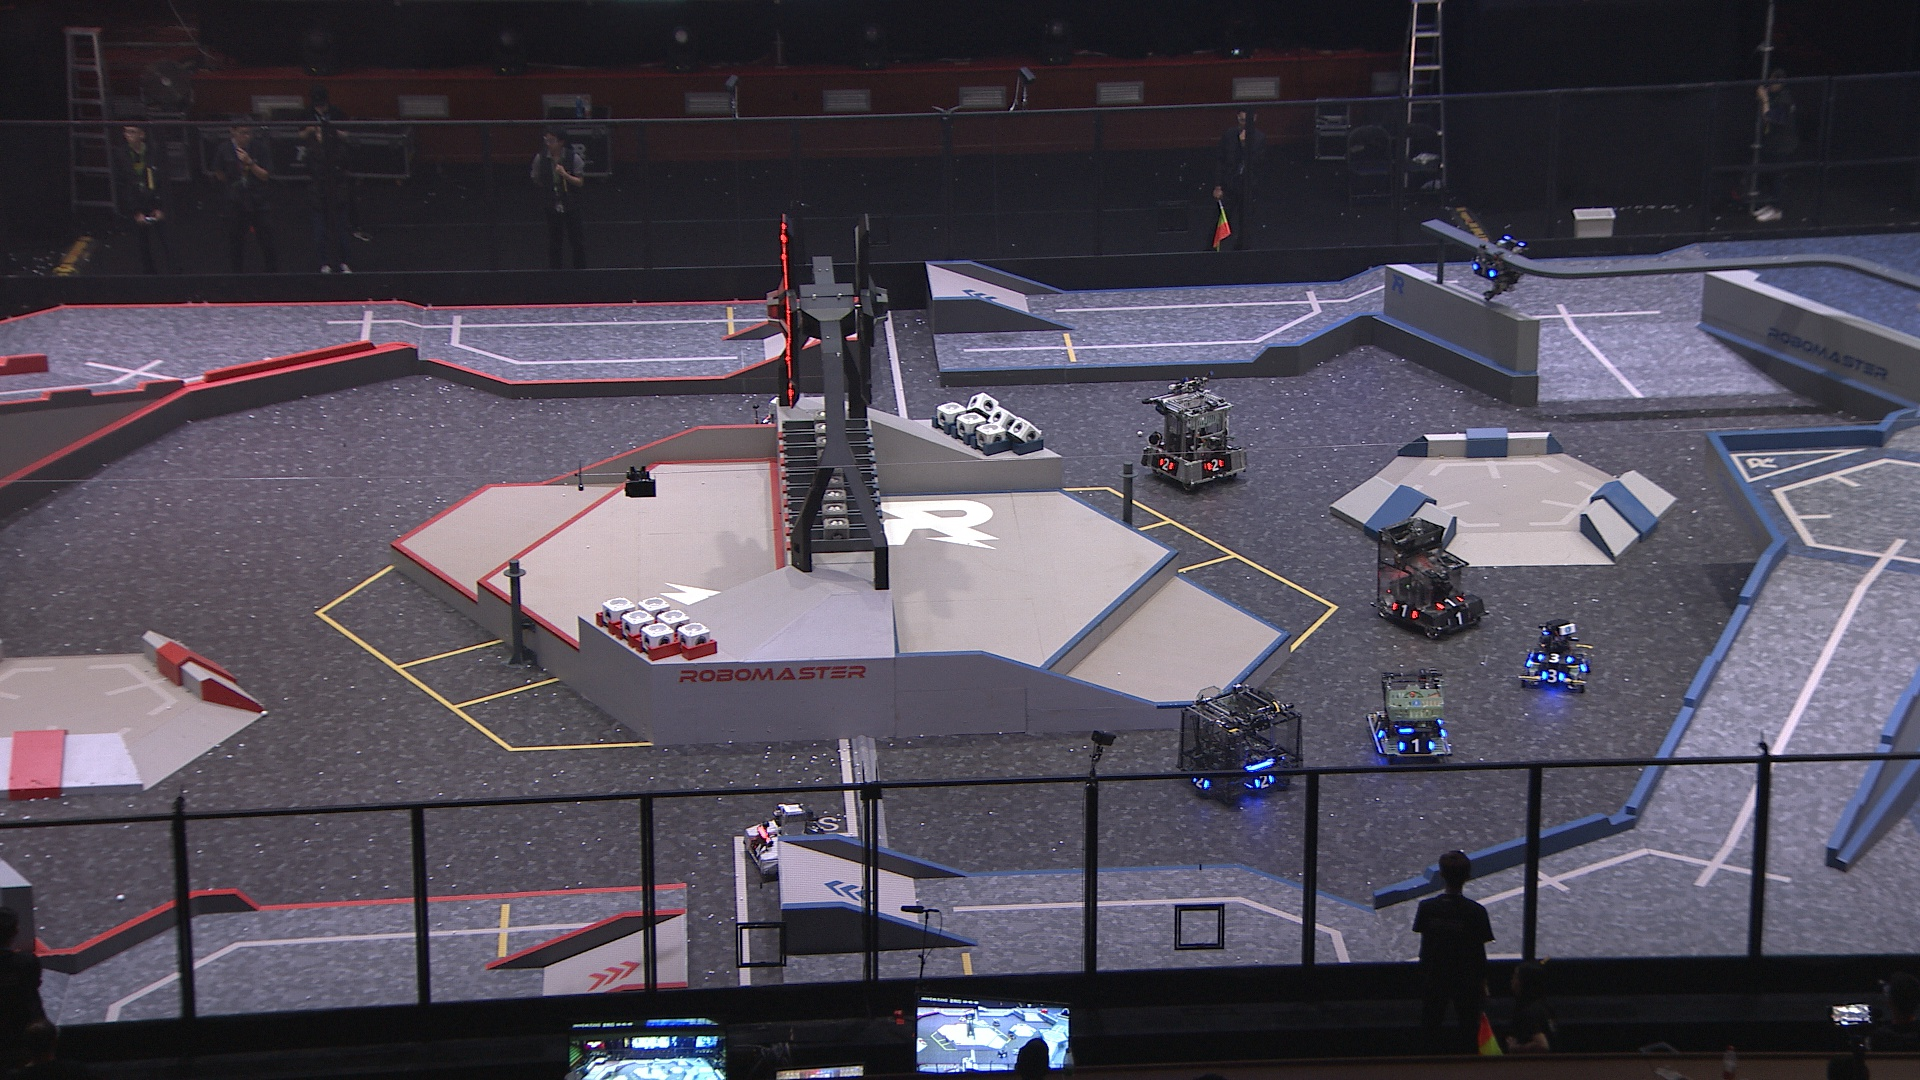armor: (1396, 735, 1433, 756), (1536, 647, 1575, 665), (1390, 600, 1419, 621), (1538, 666, 1567, 684), (1251, 773, 1276, 793), (1437, 593, 1465, 611), (1189, 774, 1215, 793), (1472, 262, 1499, 278), (1447, 608, 1470, 626), (1371, 717, 1387, 741), (750, 837, 767, 858), (1155, 455, 1176, 472), (1205, 458, 1226, 473)
car: (1174, 688, 1304, 804), (1371, 518, 1485, 638), (1135, 384, 1247, 491), (1366, 669, 1452, 764), (742, 800, 829, 878), (1516, 618, 1593, 694)
watcher: (1468, 232, 1528, 302)
